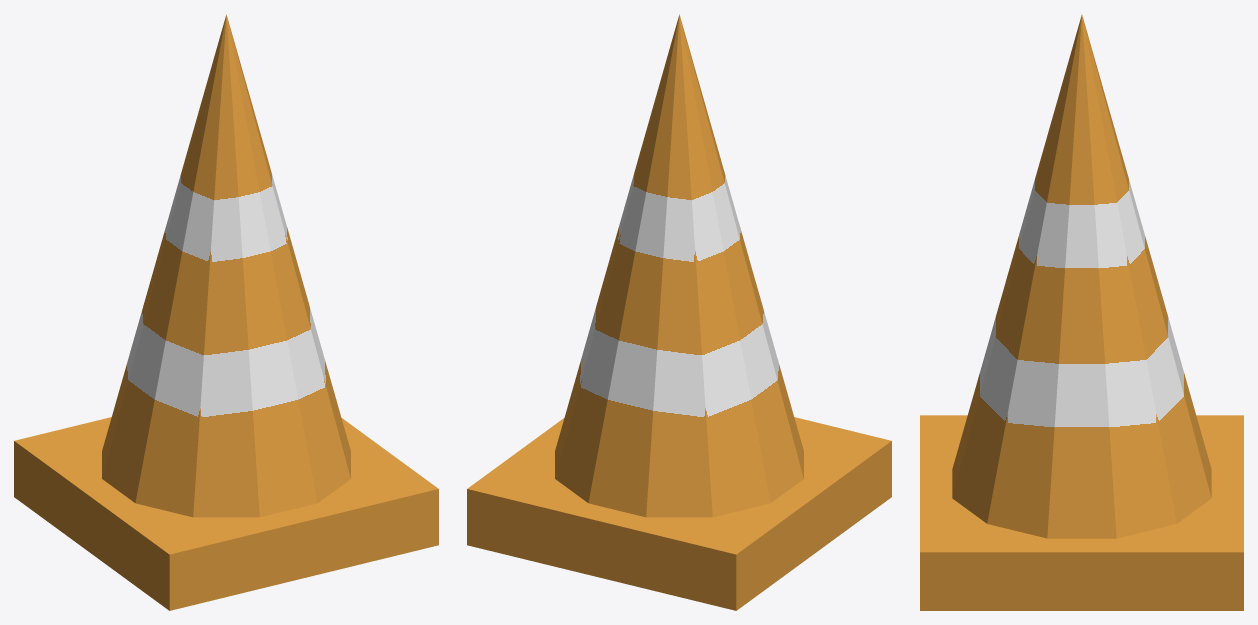
3 renders of one model, left to right at view 1: azimuth 30°, elevation 25°; view 2: azimuth 150°, elevation 25°; view 3: azimuth 270°, elevation 25°, orthographic. The views are drawn at different scales.
Visible parts, largest first — view 1: cone, cuboid; view 2: cone, cuboid; view 3: cone, cuboid.
Boxes of the visible parts, bbox=[...] form: cone: bbox=[102, 14, 350, 517]; cuboid: bbox=[14, 417, 438, 610]; cone: bbox=[555, 14, 803, 517]; cuboid: bbox=[467, 417, 891, 610]; cone: bbox=[952, 15, 1211, 538]; cuboid: bbox=[920, 415, 1243, 610].
Size of the model in its own units: 0.625 by 1.12 by 0.625.
Materials: 1 (1 with a texture image).
